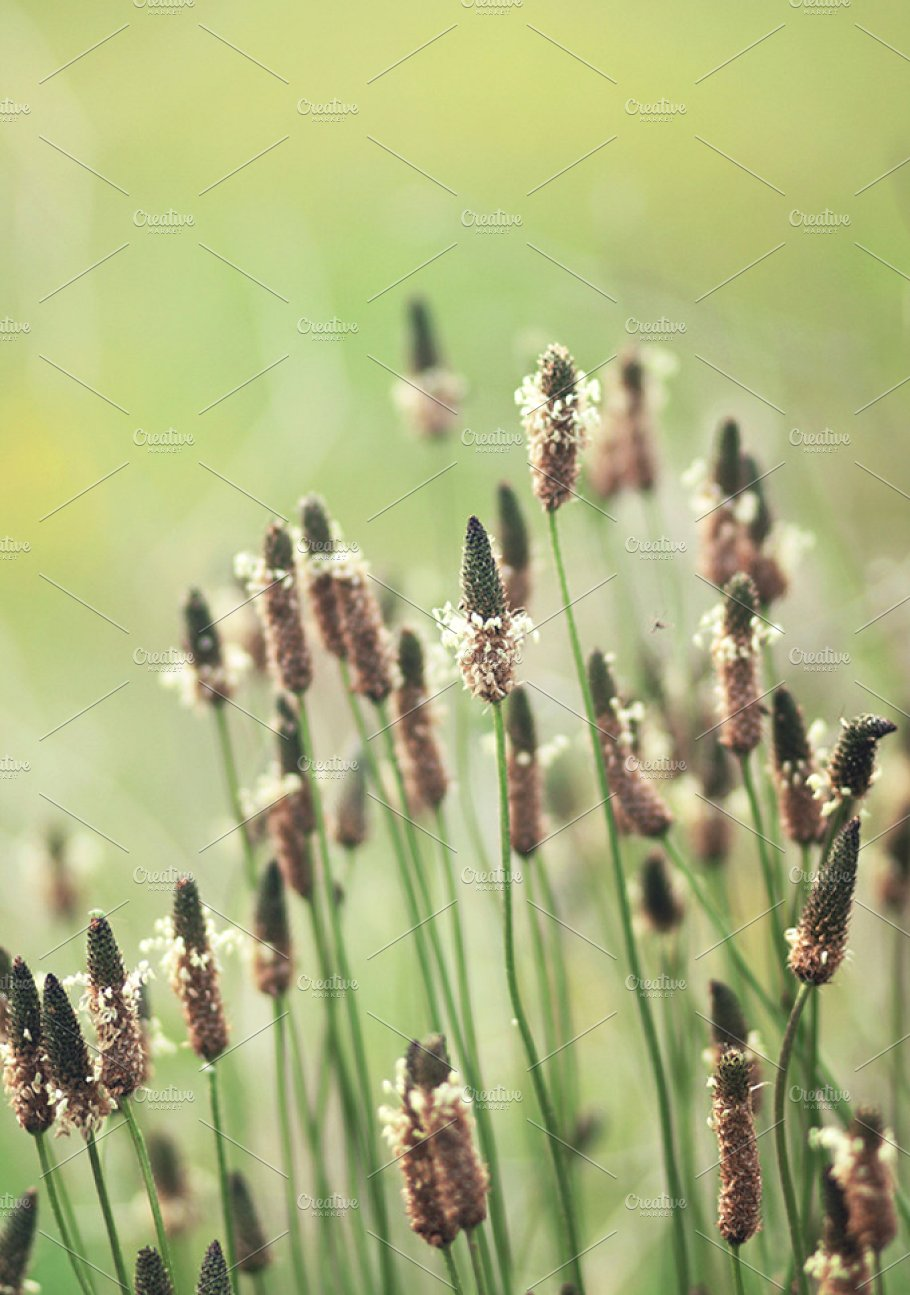buckhorn plantain: (12, 268, 910, 1279), (1, 903, 258, 1181), (411, 516, 604, 879), (354, 991, 554, 1281), (672, 974, 831, 1268), (481, 338, 646, 577), (766, 802, 910, 1041)
